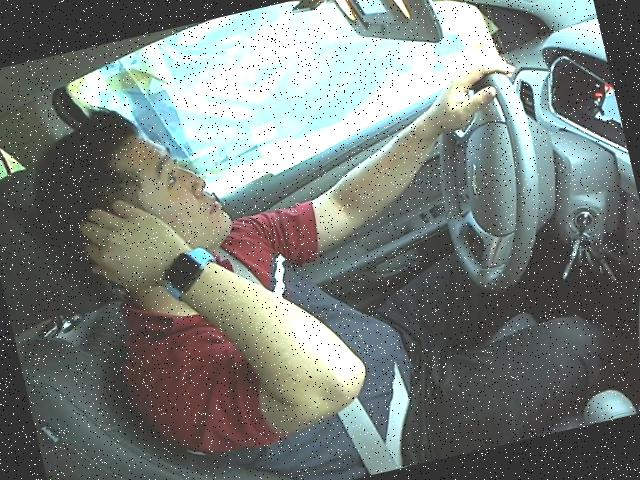c6 - Hair and Makeup: (0, 0, 592, 479)
